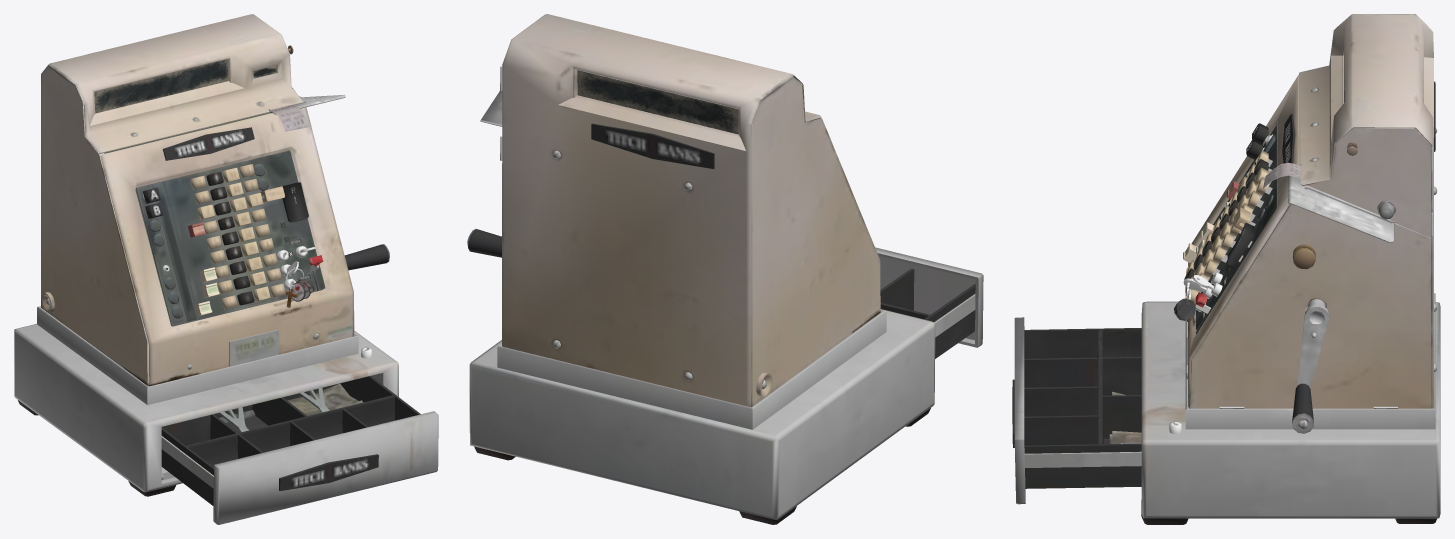
File: cash_register.glb
3 renders of one model, left to right at view 1: azimuth 30°, elevation 25°; view 2: azimuth 150°, elevation 25°; view 3: azimuth 270°, elevation 25°, orthographic. The views are drawn at different scales.
Visible parts, largest first — view 1: CashRegister_01_body; view 2: CashRegister_01_body; view 3: CashRegister_01_body.
Part boxes in pixels (<box>): CashRegister_01_body: <box>14,14,438,524</box>; CashRegister_01_body: <box>467,14,983,524</box>; CashRegister_01_body: <box>1012,14,1440,524</box>.
Size of the model in its own units: 0.6005 by 0.6212 by 0.6242.
Materials: 2 (2 with a texture image).
